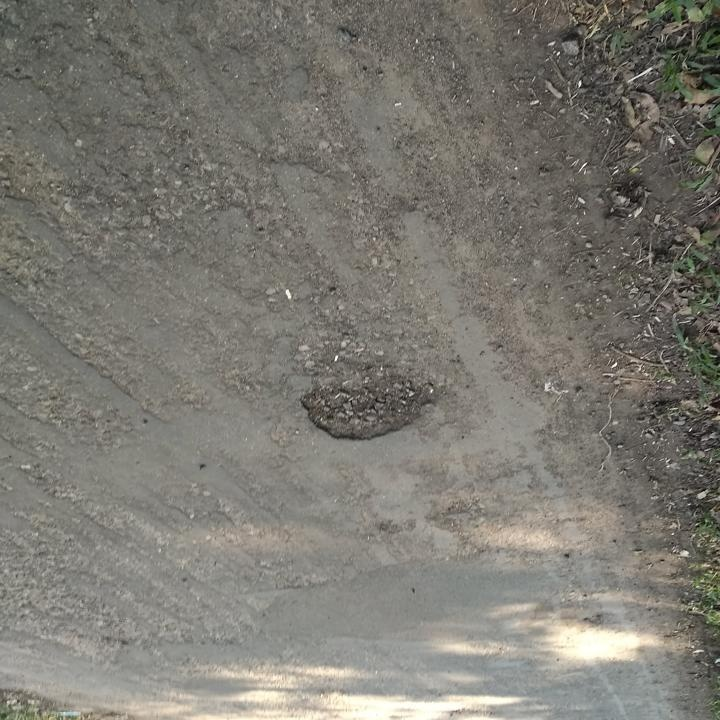pothole: (296, 366, 447, 446)
